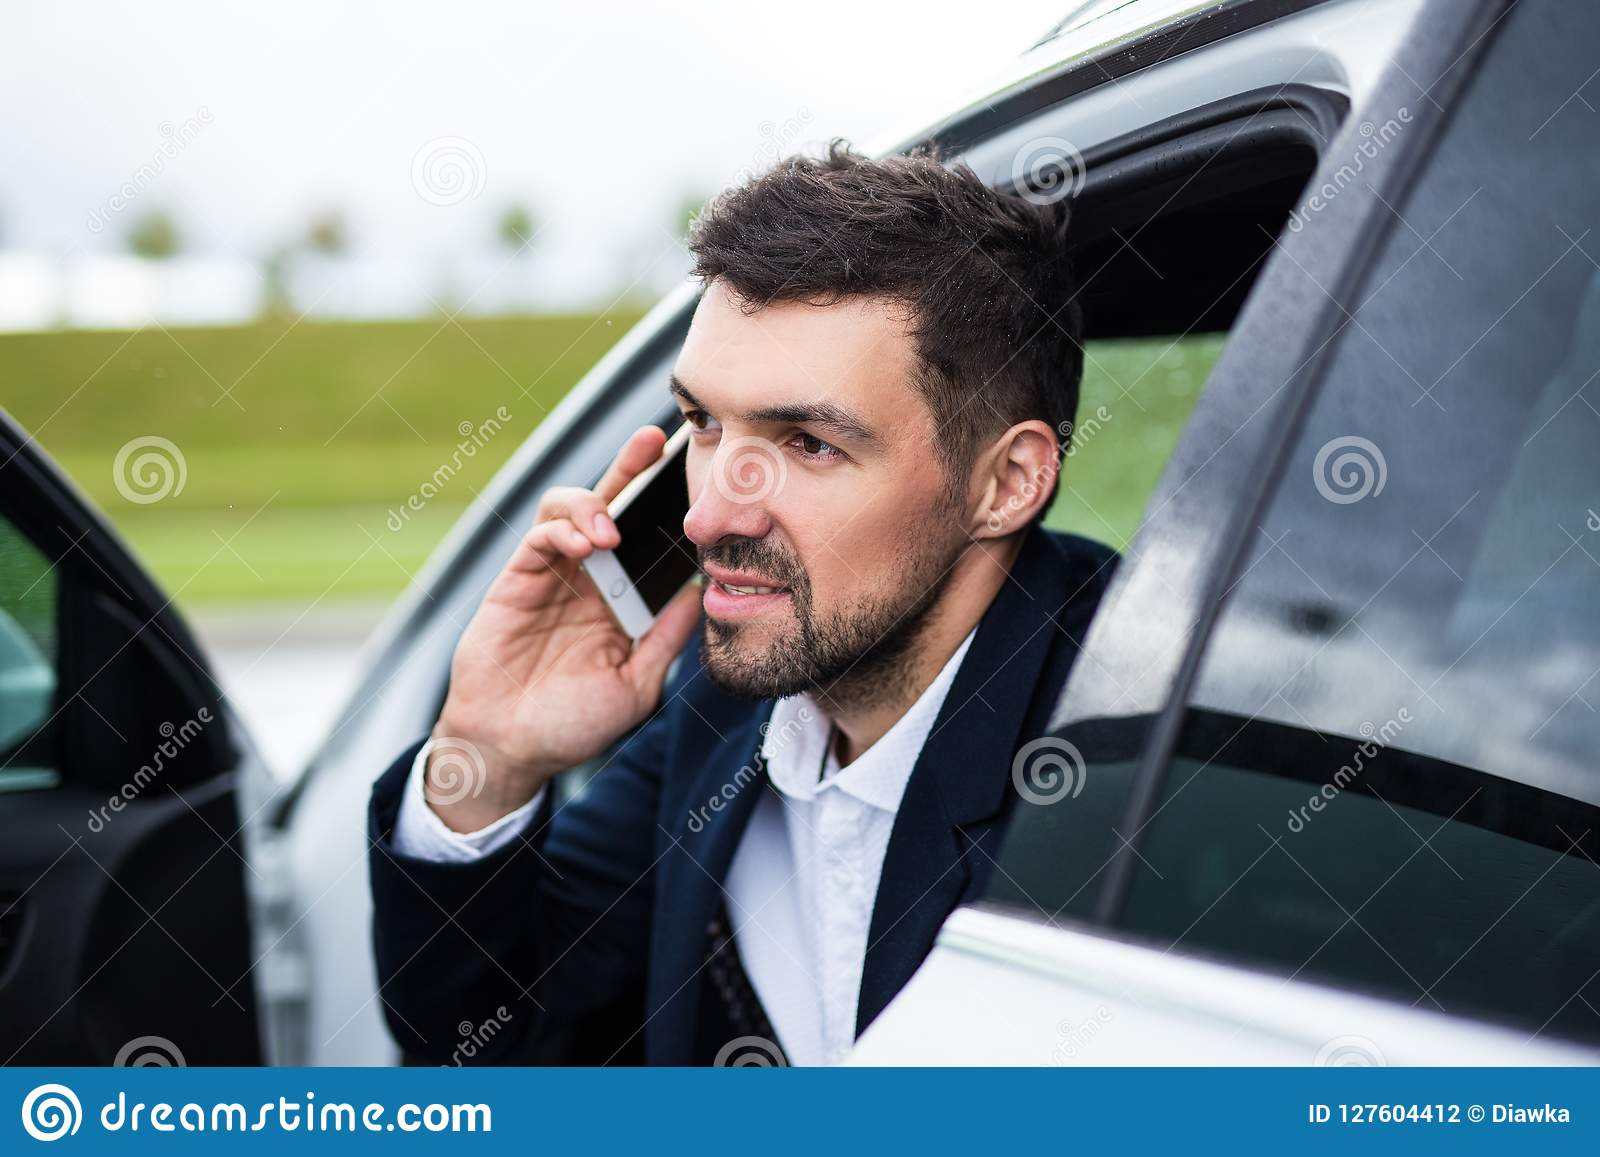phone: (565, 394, 697, 647)
talk: (436, 373, 889, 768)
